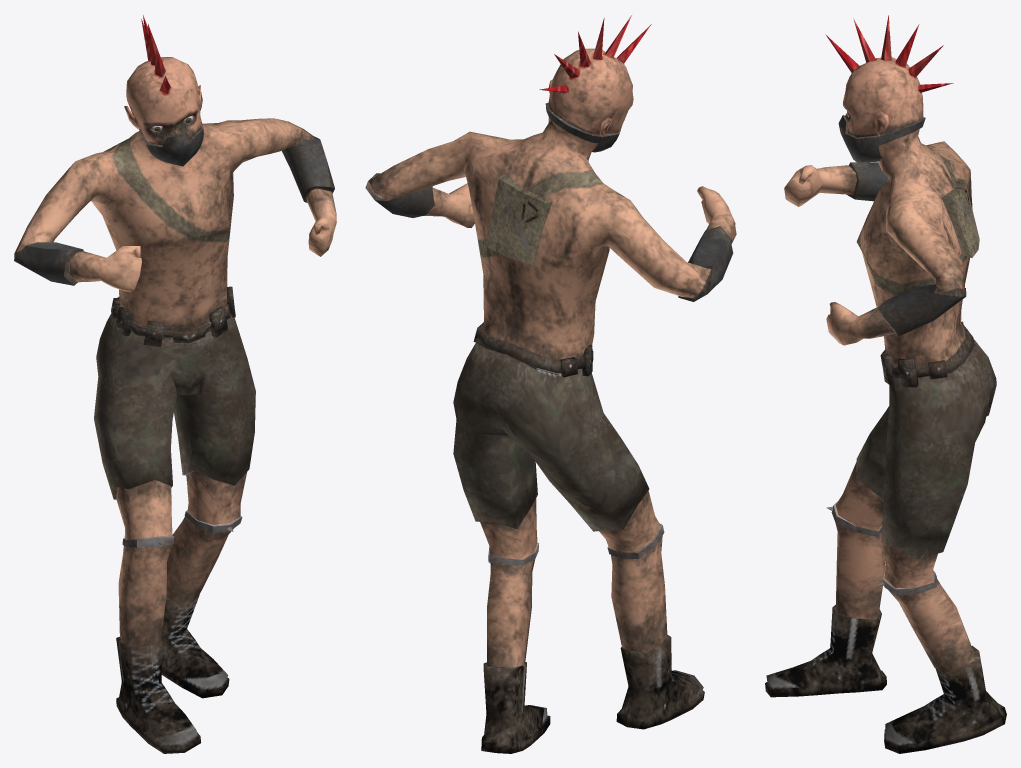
The model's file is Anim_ataque_d2_npc2.0030.obj.
3 views of the same model, side by side, from view 1: azimuth 30°, elevation 25°; view 2: azimuth 150°, elevation 25°; view 3: azimuth 270°, elevation 25° (orthographic). The views are drawn at different scales.
Visible parts, largest first — view 1: polySurface1; view 2: polySurface1; view 3: polySurface1.
Part boxes in pixels (x1,y1,x2,y2): polySurface1: [14, 15, 336, 753]; polySurface1: [365, 15, 736, 753]; polySurface1: [765, 15, 1006, 753].
Bounding box in the file's own units: 4.7 × 9.93 × 3.12.
